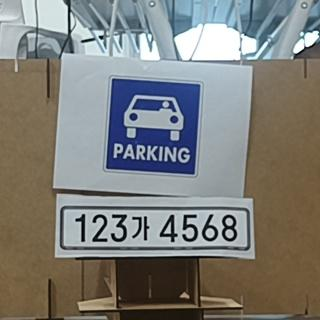normal: (60, 207, 250, 250)
